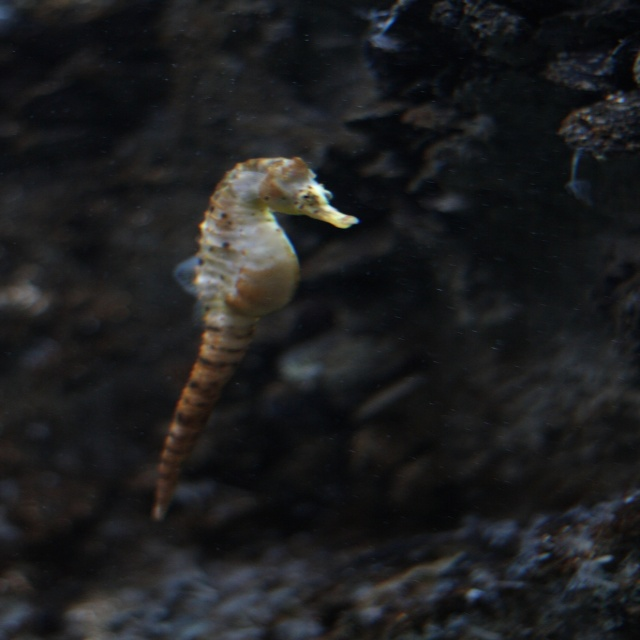Seahorse: (151, 156, 360, 523)
